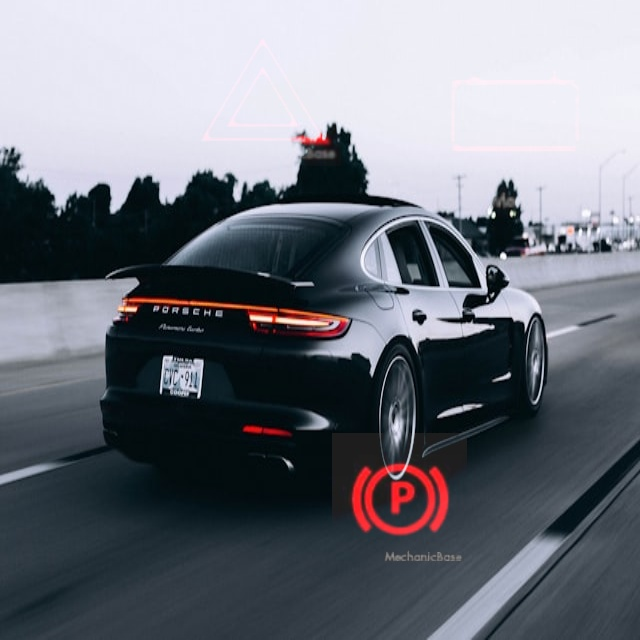symbol: (407, 5, 620, 218), (187, 12, 341, 166), (332, 433, 467, 568)
